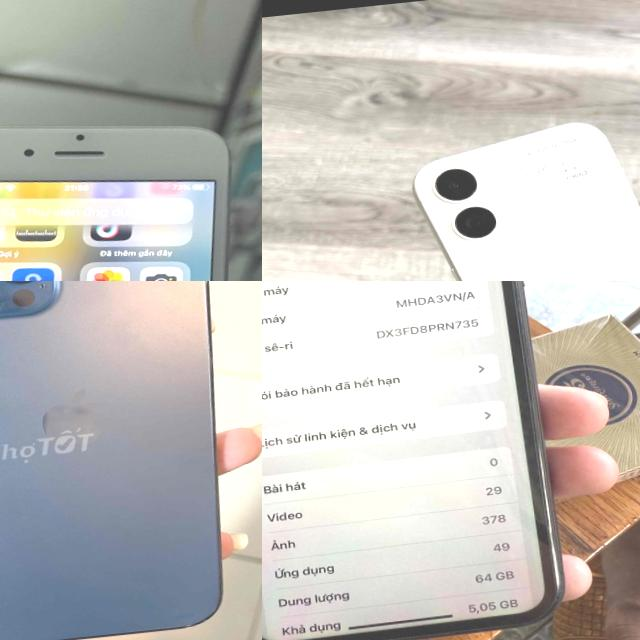gen_11: (262, 281, 576, 640)
gen_12_13: (0, 281, 253, 640)
gen_17: (414, 123, 640, 281)
gen_6: (0, 83, 262, 281)
